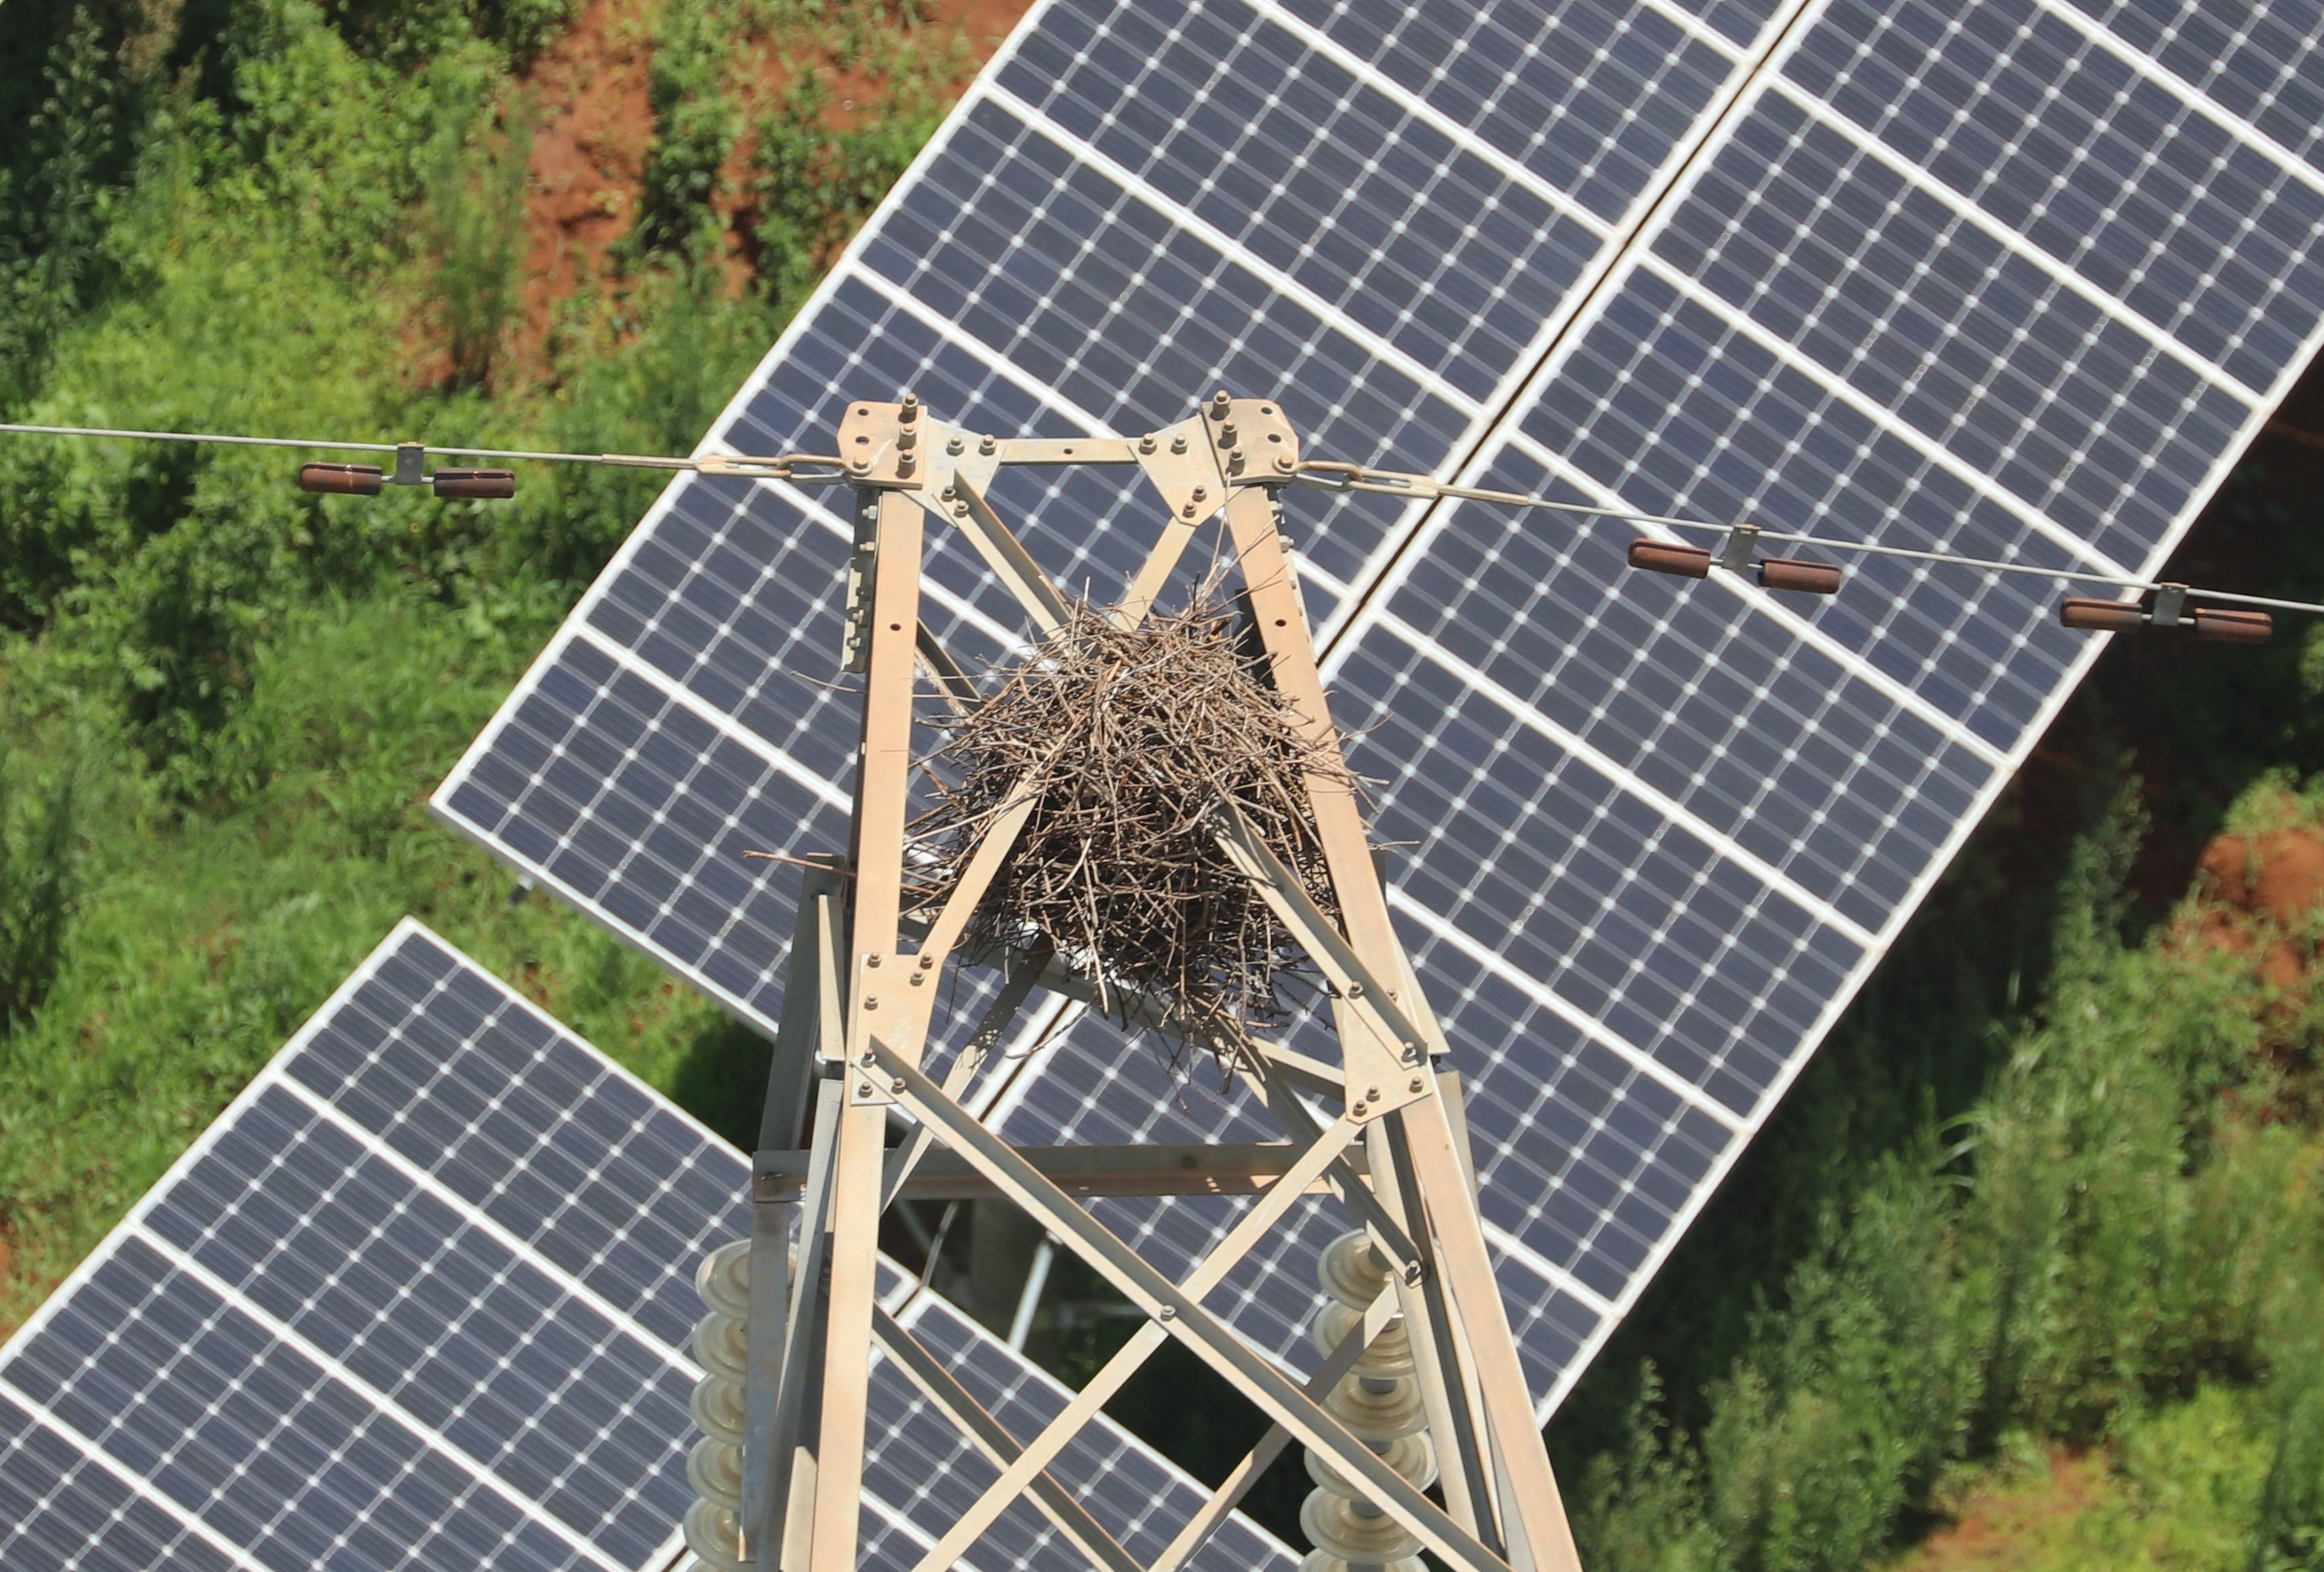niaowo: (926, 604, 1344, 1005)
